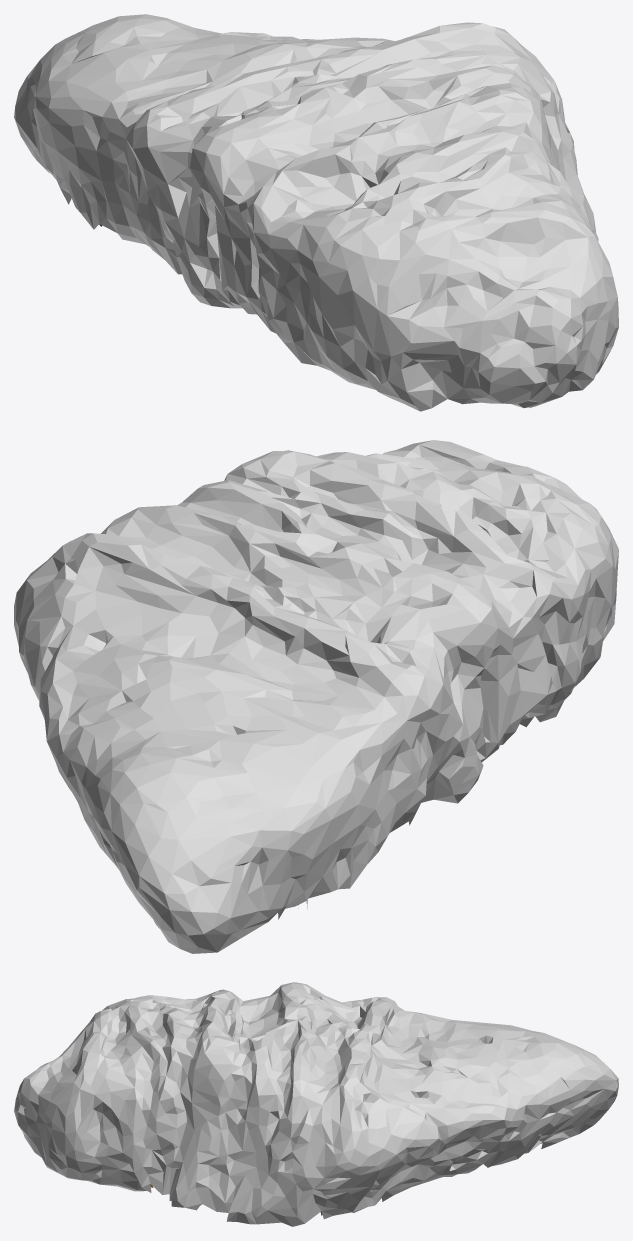
The picture shows the model from 3 angles, top to bottom: view 1: azimuth 30°, elevation 25°; view 2: azimuth 150°, elevation 25°; view 3: azimuth 270°, elevation 25°; orthographic projection. The views are drawn at different scales.
Parts seen in each view (by area): view 1: rock_003_preview.001; view 2: rock_003_preview.001; view 3: rock_003_preview.001.
Boxes of the visible parts, <box> form: rock_003_preview.001: <box>14,14,618,411</box>; rock_003_preview.001: <box>14,440,618,953</box>; rock_003_preview.001: <box>14,982,618,1226</box>.
Size of the model in its own units: 7.71 by 3.94 by 14.28.
Materials: 2 (1 with a texture image).
